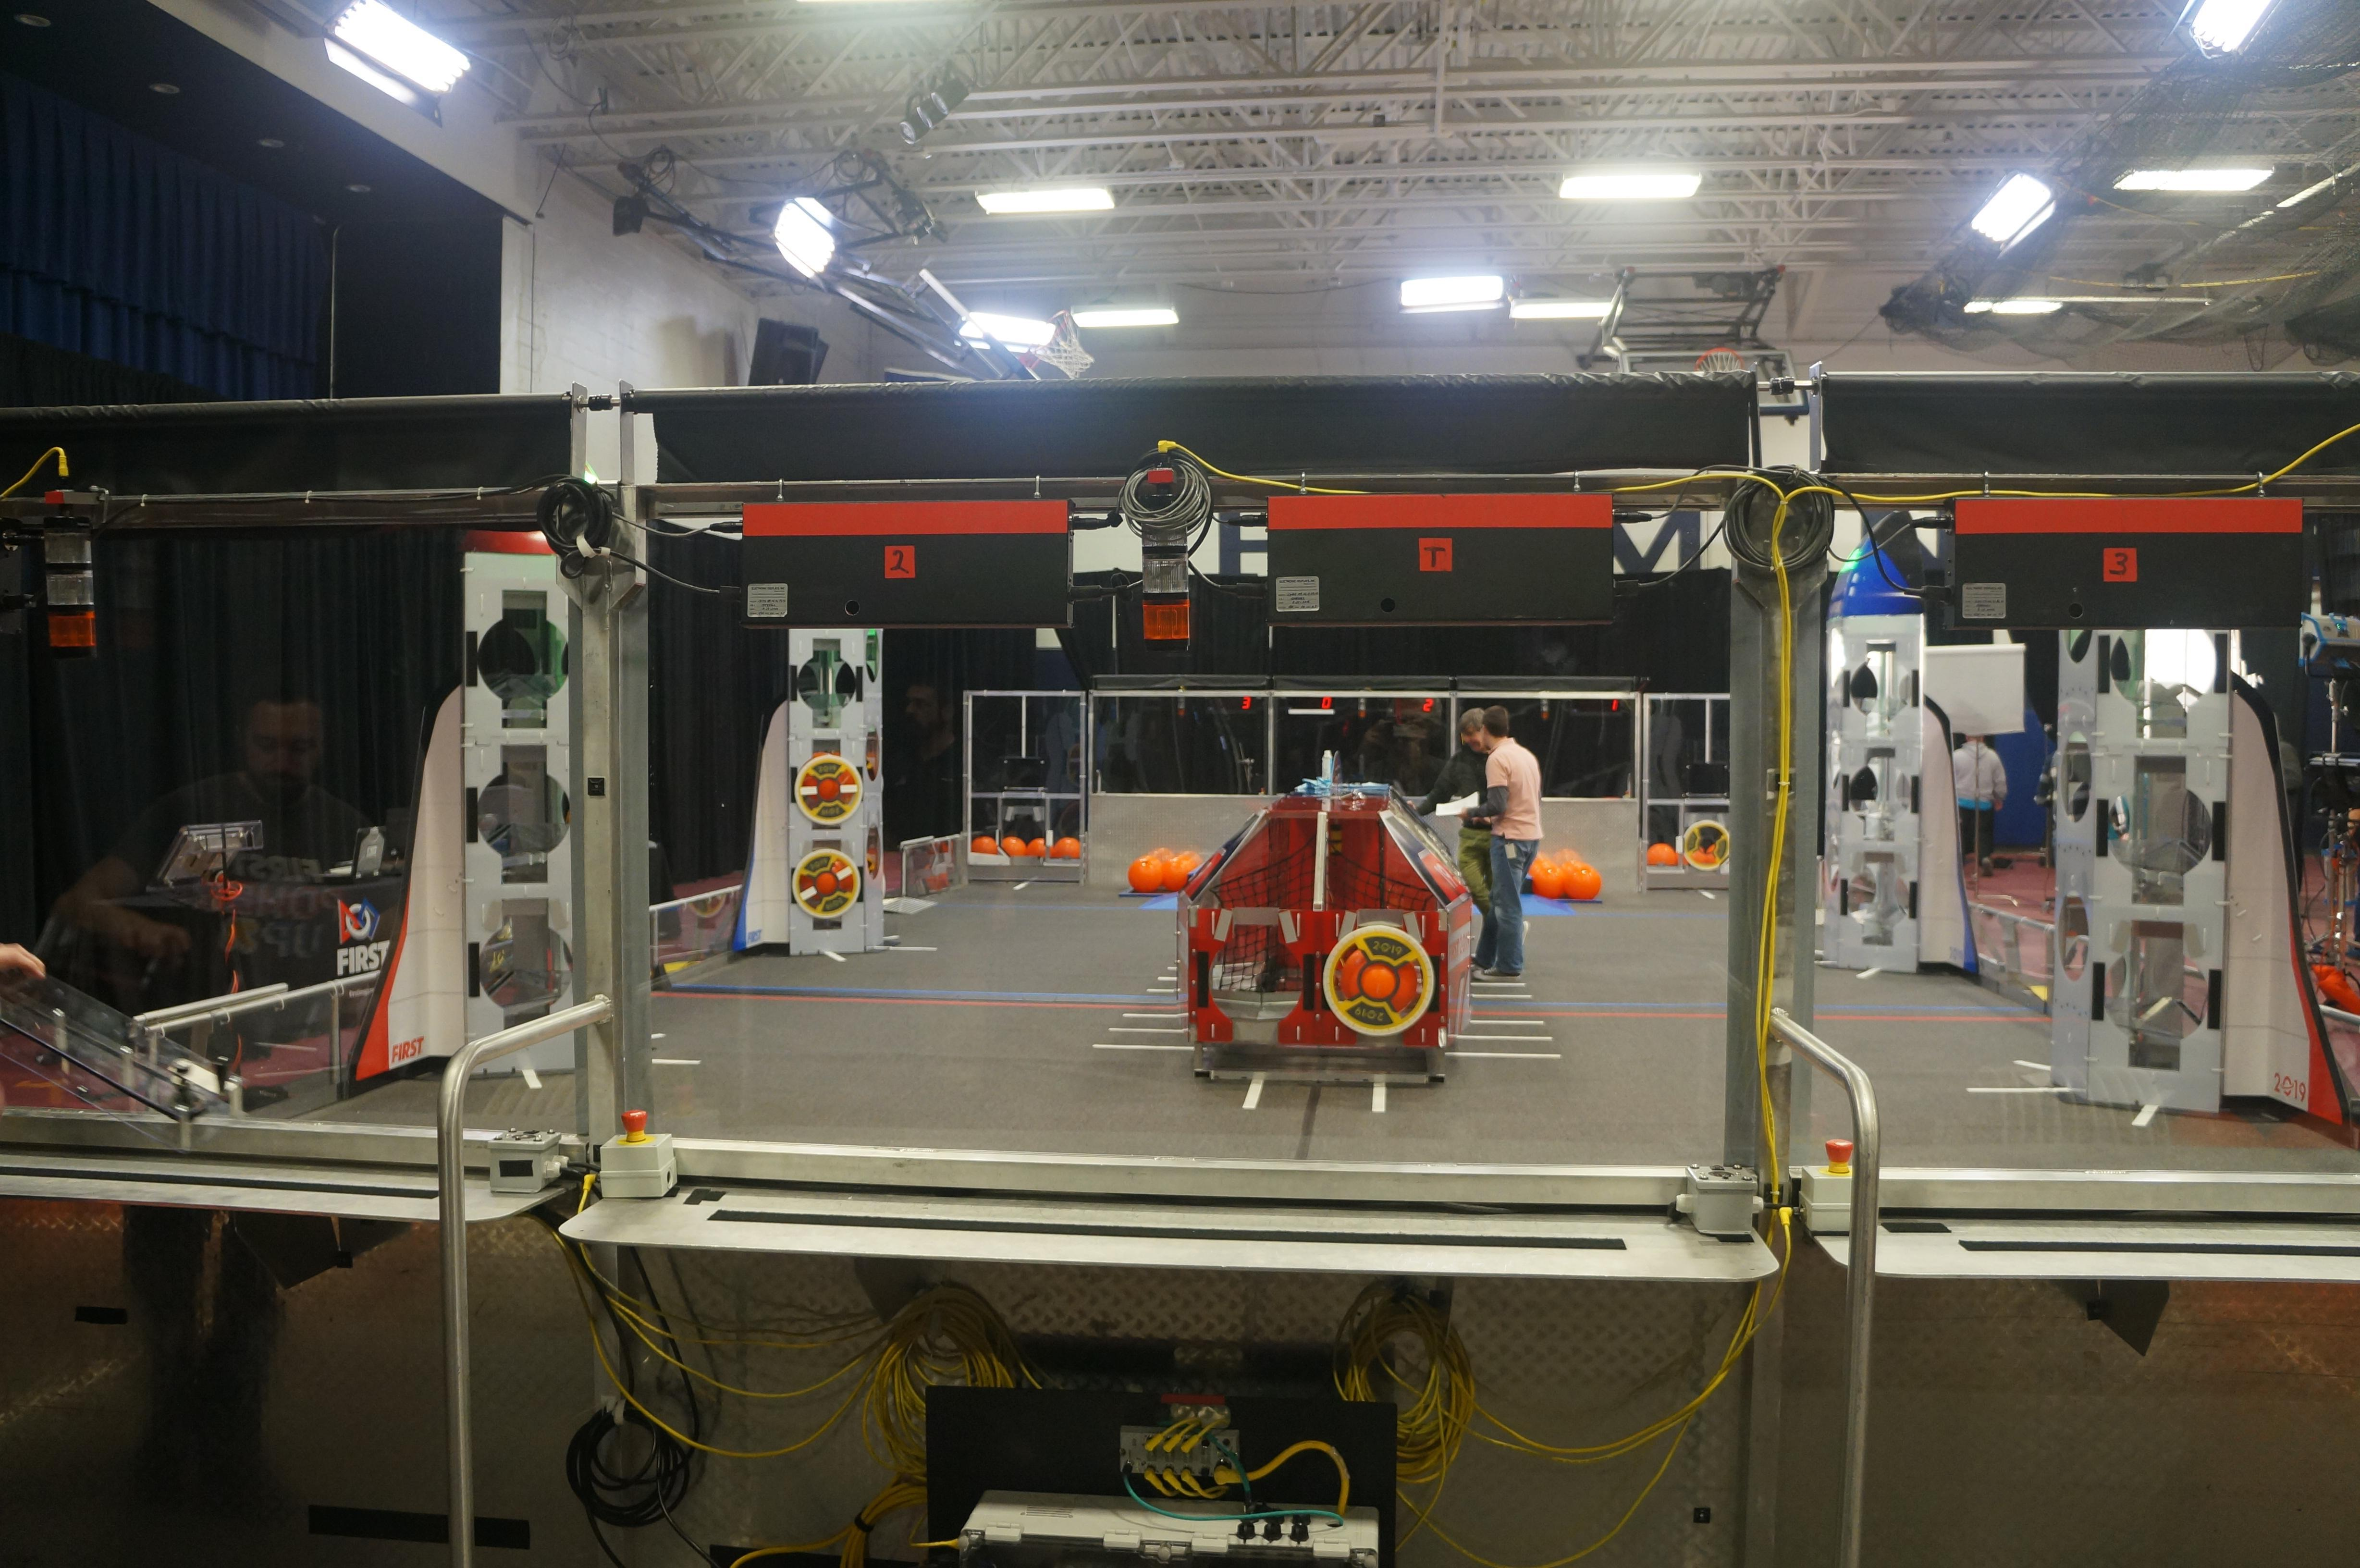Ball: (1345, 943, 1417, 1013), (1163, 849, 1202, 896), (1566, 859, 1602, 906), (1125, 859, 1163, 894), (1534, 861, 1559, 898)
Hatch: (1323, 919, 1438, 1041), (789, 751, 866, 828), (791, 847, 861, 920), (1681, 817, 1732, 875)
